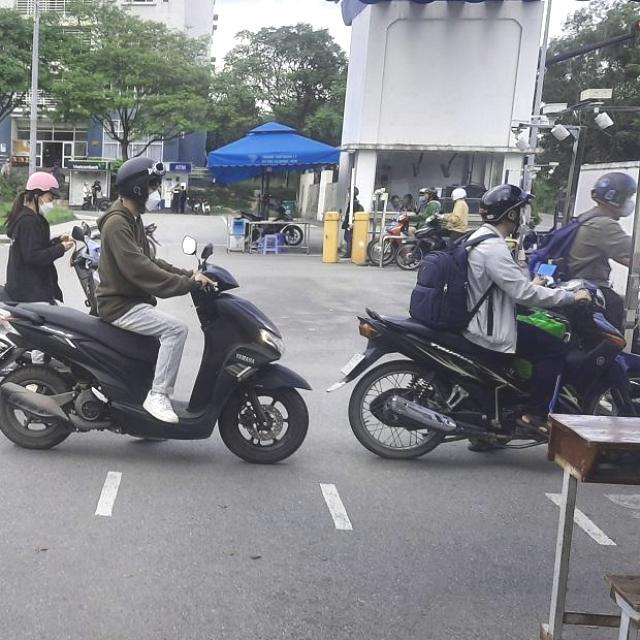Helmet: (475, 183, 537, 238), (114, 156, 168, 211), (591, 168, 639, 220), (20, 166, 63, 218)
